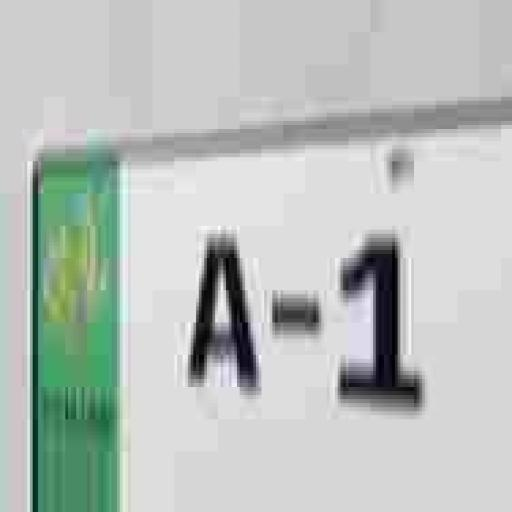1: (336, 225, 428, 394)
A: (176, 230, 255, 407)
